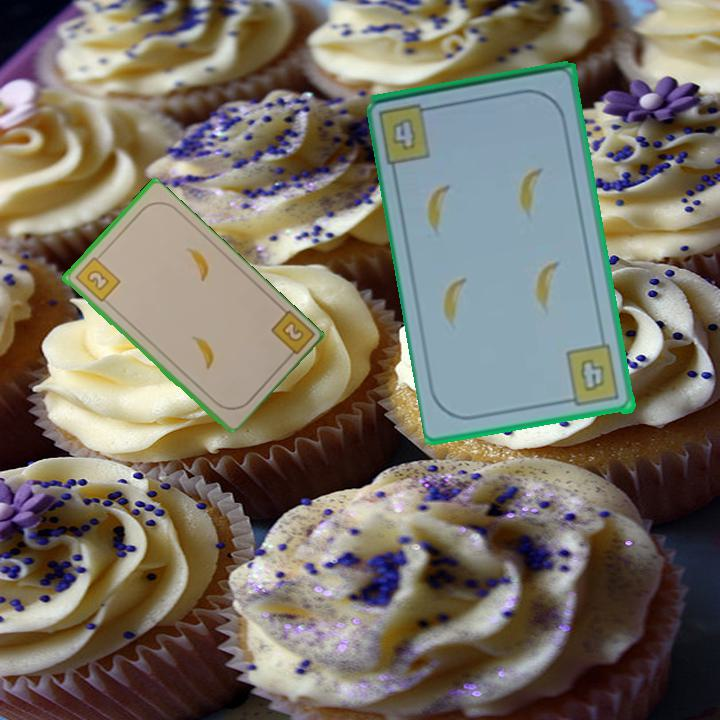2b: (71, 250, 123, 305), (267, 306, 315, 364)
4b: (375, 99, 441, 167), (560, 342, 623, 410)
